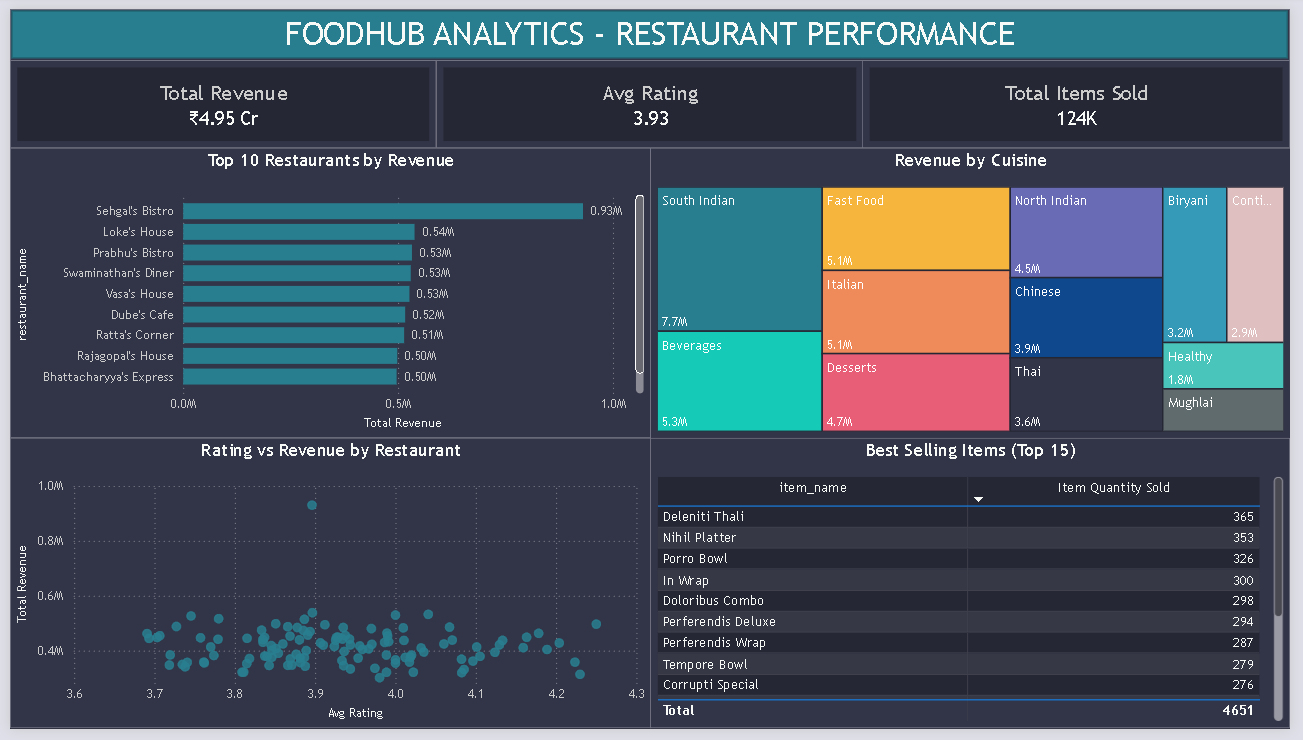

The page's visual inventory and layout, read from the dashboard file:
{"tool":"powerbi","page":{"name":"Restaurant Performance","canvas":[1280,720],"ordinal":3},"visuals":[{"type":"cardVisual","fields":{"Data":["public fact_orders.Revenue (Label)"]},"box":[0,51,426,88],"z":0},{"type":"cardVisual","fields":{"Data":["public fact_reviews.Avg Rating"]},"box":[426,51,427,88],"z":1000},{"type":"cardVisual","title":"Total Items Sold","fields":{"Data":["public fact_order_items.Item Quantity Sold"]},"box":[853,51,427,88],"z":2000},{"type":"barChart","title":"Top 10 Restaurants by Revenue","fields":{"Category":["public dim_restaurants.restaurant_name"],"Y":["public fact_orders.Total Revenue"]},"box":[0,139,640.7,290],"z":3000},{"type":"treemap","title":"Revenue by Cuisine","fields":{"Group":["public dim_restaurants.cuisine_type"],"Values":["public fact_orders.Total Revenue"]},"box":[640,139,640.7,291],"z":4000},{"type":"scatterChart","title":"Rating vs Revenue by Restaurant","fields":{"X":["public fact_reviews.Avg Rating"],"Y":["public fact_orders.Total Revenue"],"Category":["public dim_restaurants.restaurant_name"]},"box":[0,428.8,641.2,290],"z":5000},{"type":"tableEx","title":"Best Selling Items (Top 15)","fields":{"Values":["public dim_menu_items.item_name","public fact_order_items.Item Quantity Sold"]},"box":[640,428.8,640,290],"z":6000},{"type":"group","id":"g1","title":"Group 1","box":[0,0,1280,52.5],"z":7000},{"type":"shape","box":[0,0,1280,51.7],"z":10000,"group":"g1"},{"type":"textbox","box":[124.7,0,1029.4,52.5],"z":11000,"group":"g1"}]}

Visuals, with their boxes in screenshot pixels (x1, y1, x2, y2), scaled from the page's 1280x720 canvas onto the 1303x740 screenshot:
cardVisual - public fact_orders.Revenue (Label): (x1=0, y1=52, x2=434, y2=143)
cardVisual - public fact_reviews.Avg Rating: (x1=434, y1=52, x2=868, y2=143)
"Total Items Sold" cardVisual: (x1=868, y1=52, x2=1302, y2=143)
"Top 10 Restaurants by Revenue" barChart: (x1=0, y1=143, x2=652, y2=441)
"Revenue by Cuisine" treemap: (x1=652, y1=143, x2=1302, y2=442)
"Rating vs Revenue by Restaurant" scatterChart: (x1=0, y1=441, x2=653, y2=739)
"Best Selling Items (Top 15)" tableEx: (x1=652, y1=441, x2=1302, y2=739)
"Group 1" group: (x1=0, y1=0, x2=1302, y2=54)
shape: (x1=0, y1=0, x2=1302, y2=53)
textbox: (x1=127, y1=0, x2=1175, y2=54)
